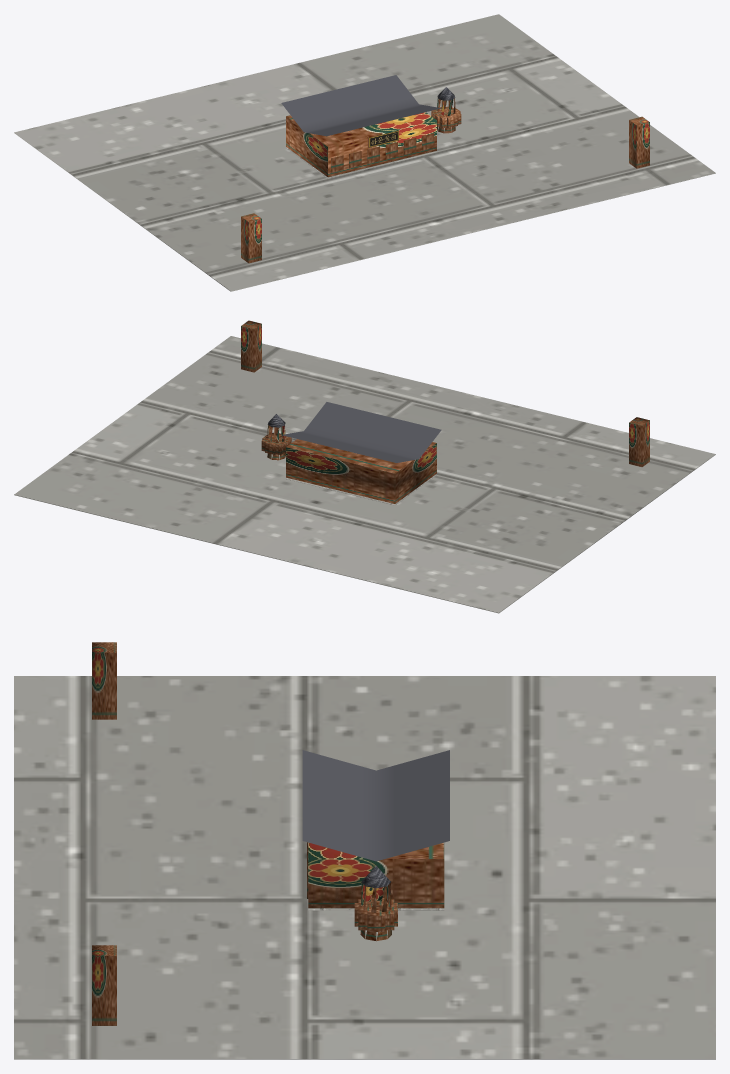
3 views of the same model, one above another, from view 1: azimuth 30°, elevation 25°; view 2: azimuth 150°, elevation 25°; view 3: azimuth 270°, elevation 25° (orthographic). The views are drawn at different scales.
Visible parts, largest first — view 1: 11680_01_06088_040_01_L2__base, 11680_01_06088_040_02_L2__body, 11680_01_06088_040_03_L2__roof, 11680_01_06088_040_06_L2__green, 11680_01_06088_040_05_L2__openings; view 2: 11680_01_06088_040_01_L2__base, 11680_01_06088_040_02_L2__body, 11680_01_06088_040_03_L2__roof, 11680_01_06088_040_06_L2__green; view 3: 11680_01_06088_040_01_L2__base, 11680_01_06088_040_03_L2__roof, 11680_01_06088_040_02_L2__body, 11680_01_06088_040_06_L2__green.
Boxes of the visible parts, x1,y1,x2,y2 form: 11680_01_06088_040_01_L2__base: [14, 14, 715, 291]; 11680_01_06088_040_02_L2__body: [286, 97, 461, 177]; 11680_01_06088_040_03_L2__roof: [281, 75, 455, 136]; 11680_01_06088_040_06_L2__green: [241, 116, 649, 263]; 11680_01_06088_040_05_L2__openings: [331, 133, 434, 172]; 11680_01_06088_040_01_L2__base: [14, 336, 715, 613]; 11680_01_06088_040_02_L2__body: [261, 425, 436, 503]; 11680_01_06088_040_03_L2__roof: [267, 402, 441, 462]; 11680_01_06088_040_06_L2__green: [241, 320, 649, 466]; 11680_01_06088_040_01_L2__base: [14, 676, 715, 1059]; 11680_01_06088_040_03_L2__roof: [302, 750, 449, 888]; 11680_01_06088_040_02_L2__body: [308, 842, 444, 941]; 11680_01_06088_040_06_L2__green: [92, 642, 116, 1025].
Bounding box in the file's own units: 80 × 7.1 × 62.
5 materials, 5 textured.
